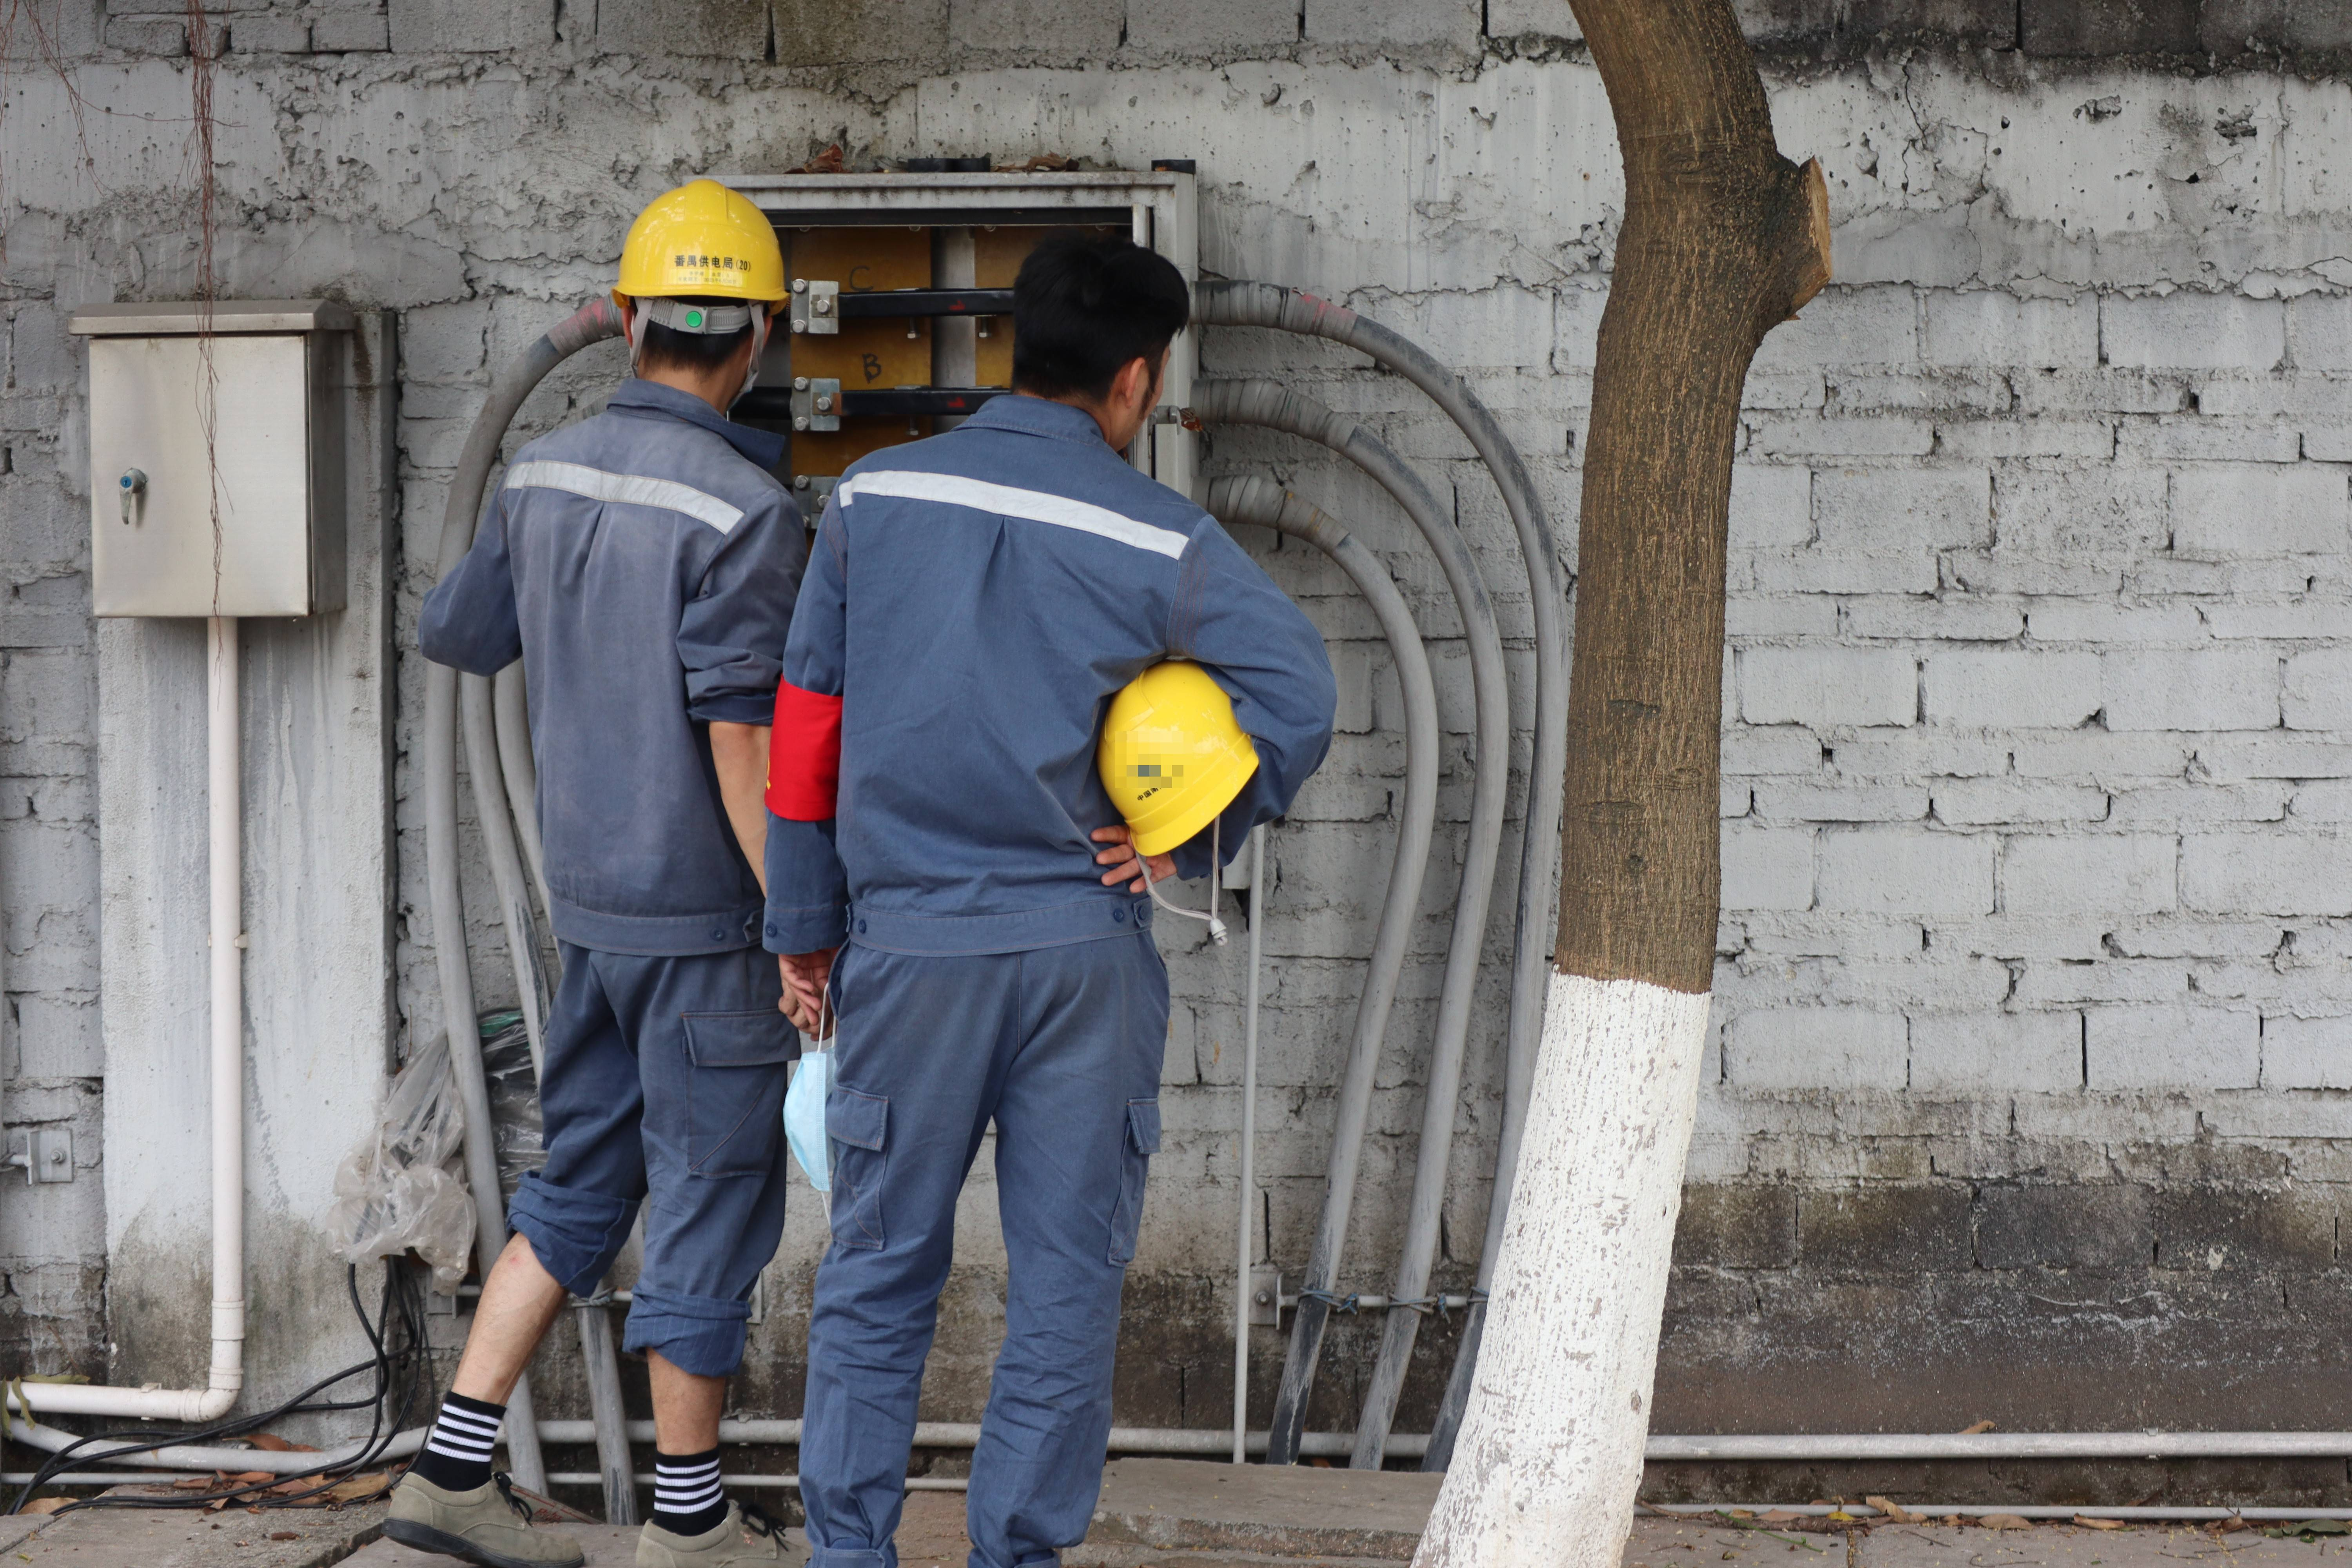downsuit: (798, 975, 1174, 1568), (497, 954, 796, 1377)
upsuit: (759, 392, 1339, 950), (416, 380, 761, 943)
wrongbottom: (445, 1200, 579, 1430), (621, 1298, 747, 1477)
wrongtop: (686, 672, 770, 903)
